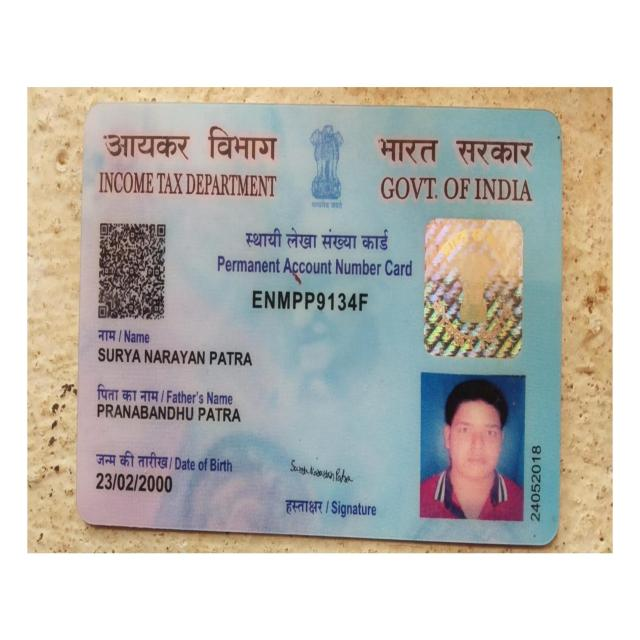pan_card: (90, 106, 555, 532)
